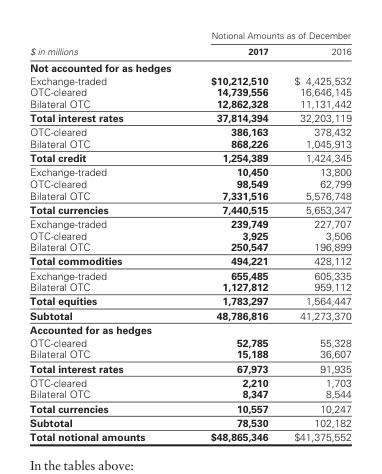table: (29, 29, 350, 442)
table column: (29, 29, 177, 442), (177, 29, 280, 442), (280, 29, 350, 442)
table column header: (29, 29, 350, 58)
table projected row header: (29, 58, 350, 73), (29, 322, 350, 335)
table row: (29, 42, 350, 58), (29, 58, 350, 73), (29, 201, 350, 216), (29, 307, 350, 322), (29, 360, 350, 375), (29, 400, 350, 415), (29, 110, 350, 124), (29, 150, 350, 164), (29, 253, 350, 267), (29, 293, 350, 307), (29, 415, 350, 429), (29, 29, 350, 42), (29, 97, 350, 110), (29, 124, 350, 137), (29, 137, 350, 150), (29, 164, 350, 177), (29, 216, 350, 229), (29, 240, 350, 253), (29, 267, 350, 280), (29, 280, 350, 293), (29, 322, 350, 335), (29, 347, 350, 360), (29, 375, 350, 388), (29, 429, 350, 442), (29, 73, 350, 85), (29, 85, 350, 97), (29, 177, 350, 189), (29, 189, 350, 201), (29, 335, 350, 347), (29, 388, 350, 400), (29, 229, 350, 240)
table spanning cell: (29, 29, 177, 58), (177, 29, 350, 42)
